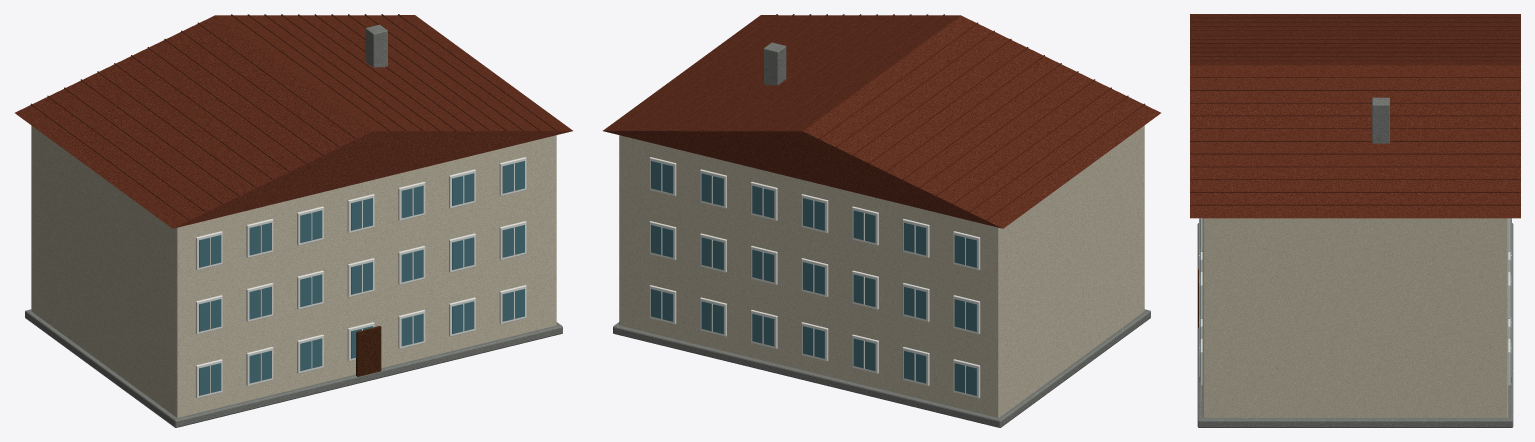
File: Apartment_3Floors_LOD0.glb
3 renders of one model, left to right at view 1: azimuth 30°, elevation 25°; view 2: azimuth 150°, elevation 25°; view 3: azimuth 270°, elevation 25°, orthographic. The views are drawn at different scales.
Visible parts, largest first — view 1: Apartment_3Floors_export; view 2: Apartment_3Floors_export; view 3: Apartment_3Floors_export.
Part boxes in pixels (x1,y1,x2,y2): Apartment_3Floors_export: [15, 14, 572, 427]; Apartment_3Floors_export: [603, 14, 1160, 427]; Apartment_3Floors_export: [1190, 14, 1520, 427].
Size of the model in its own units: 19 by 12 by 13.
6 materials, 4 textured.
